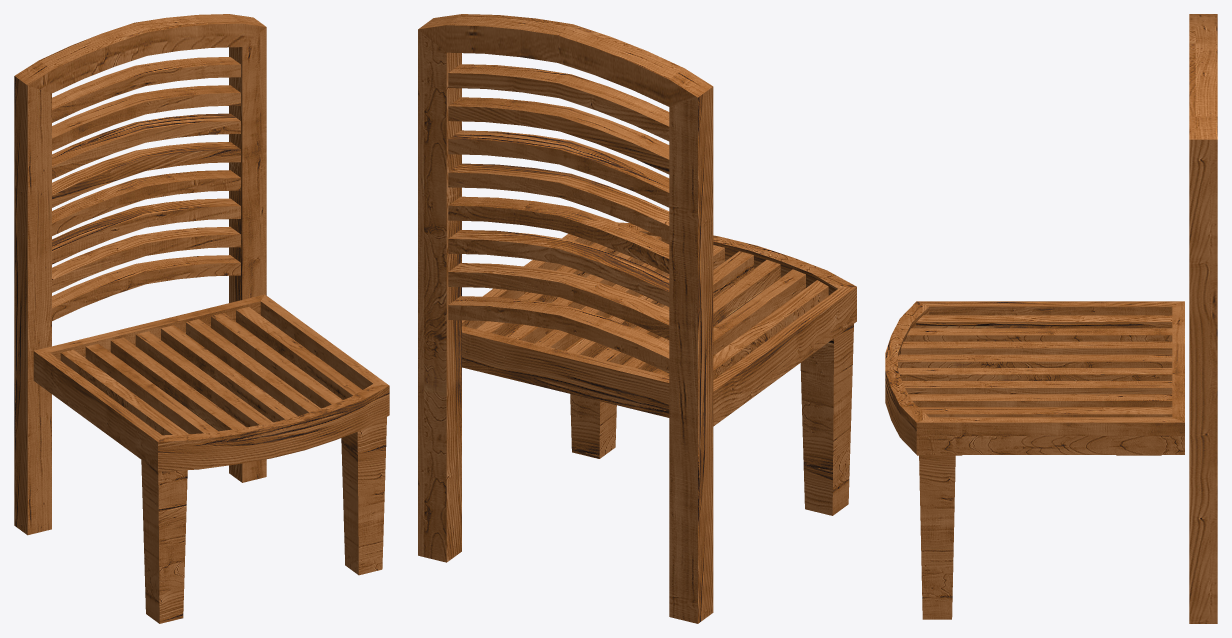
The model's file is chair.fbx.
3 views of the same model, side by side, from view 1: azimuth 30°, elevation 25°; view 2: azimuth 150°, elevation 25°; view 3: azimuth 270°, elevation 25° (orthographic). The views are drawn at different scales.
Parts seen in each view (by area): view 1: chair; view 2: chair; view 3: chair.
Boxes of the visible parts, x1=… form: chair: x1=14, y1=14, x2=389, y2=623; chair: x1=418, y1=14, x2=856, y2=623; chair: x1=885, y1=14, x2=1217, y2=623.
Size of the model in its own units: 0.9545 by 1.81 by 1.07.
